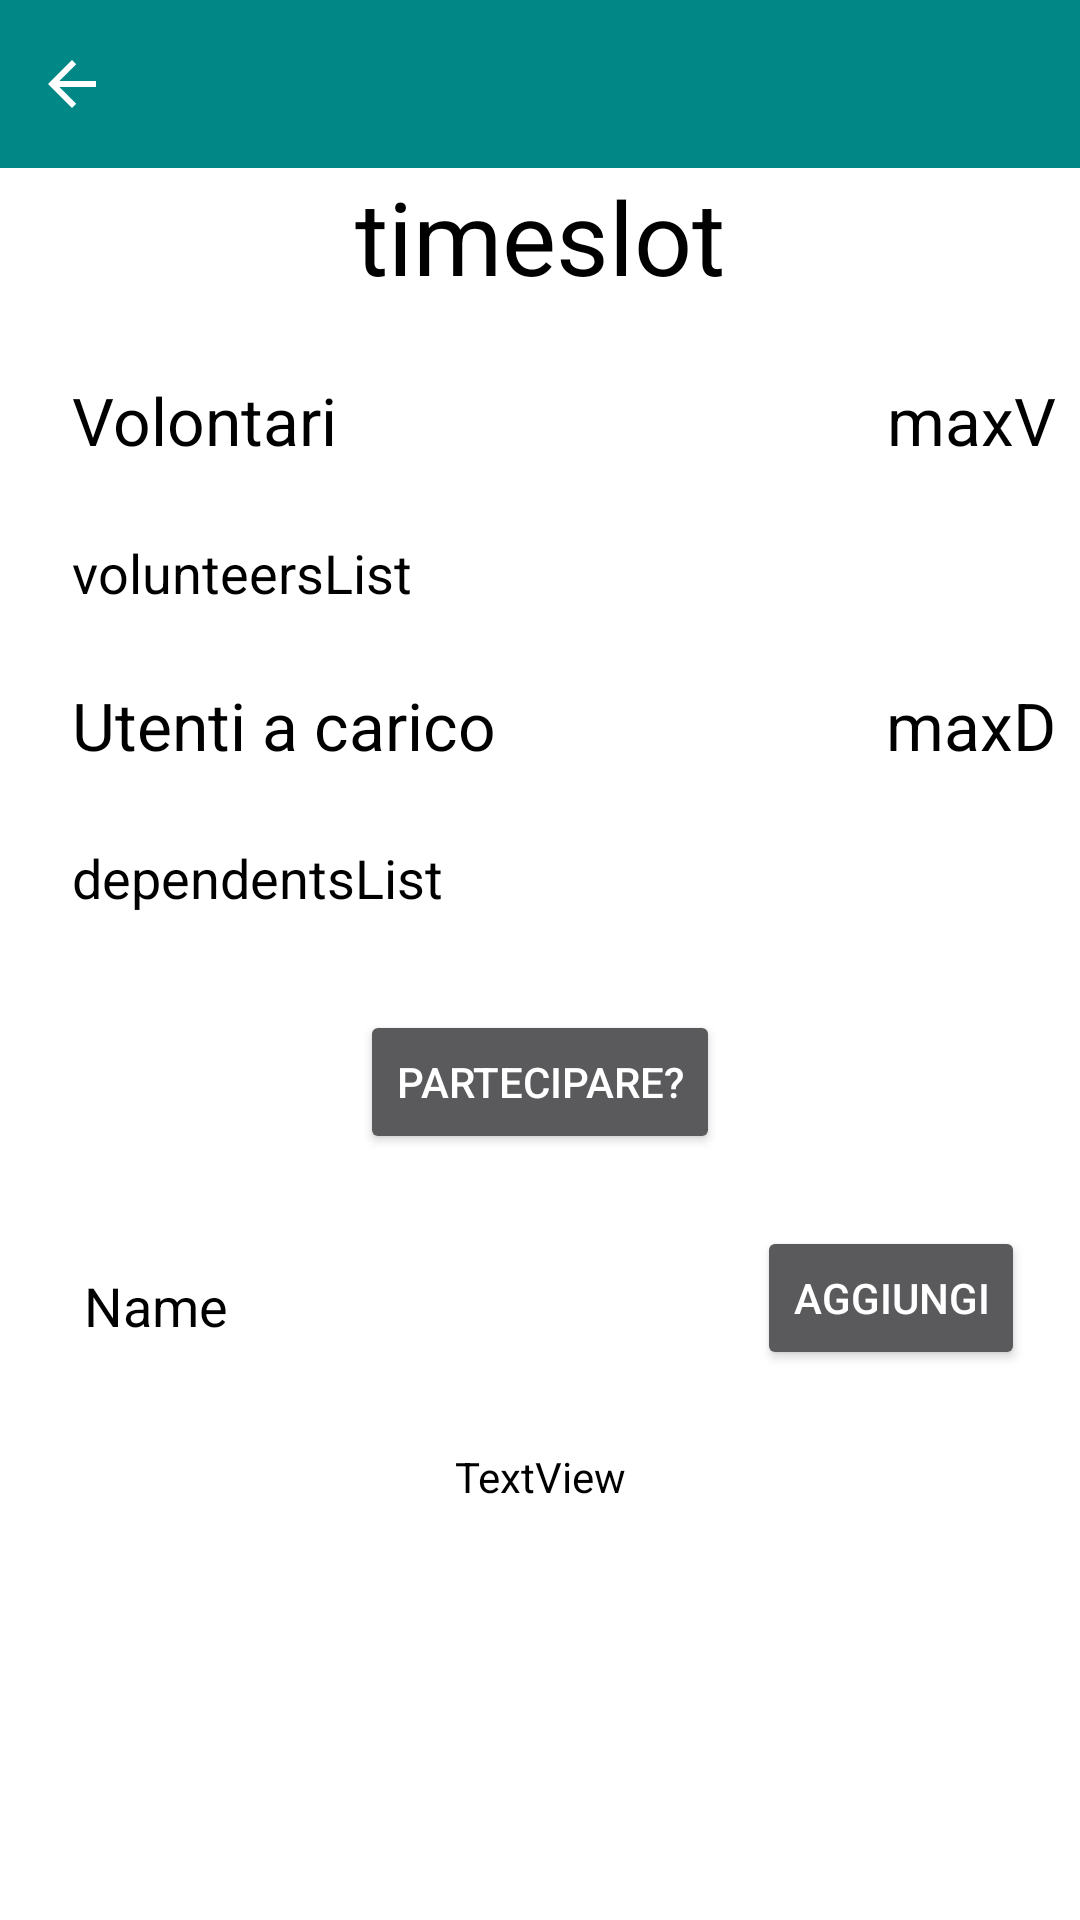

Named icons in this screenshot (1080 × 1920) and their bounding boxes, Rect(x1, y1, x2, y2):
Back: Rect(48, 60, 96, 108)
